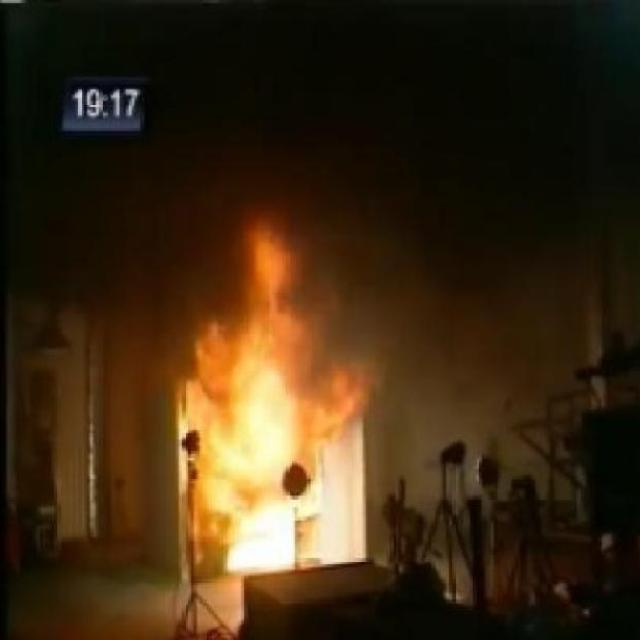smoke: (162, 199, 370, 564)
